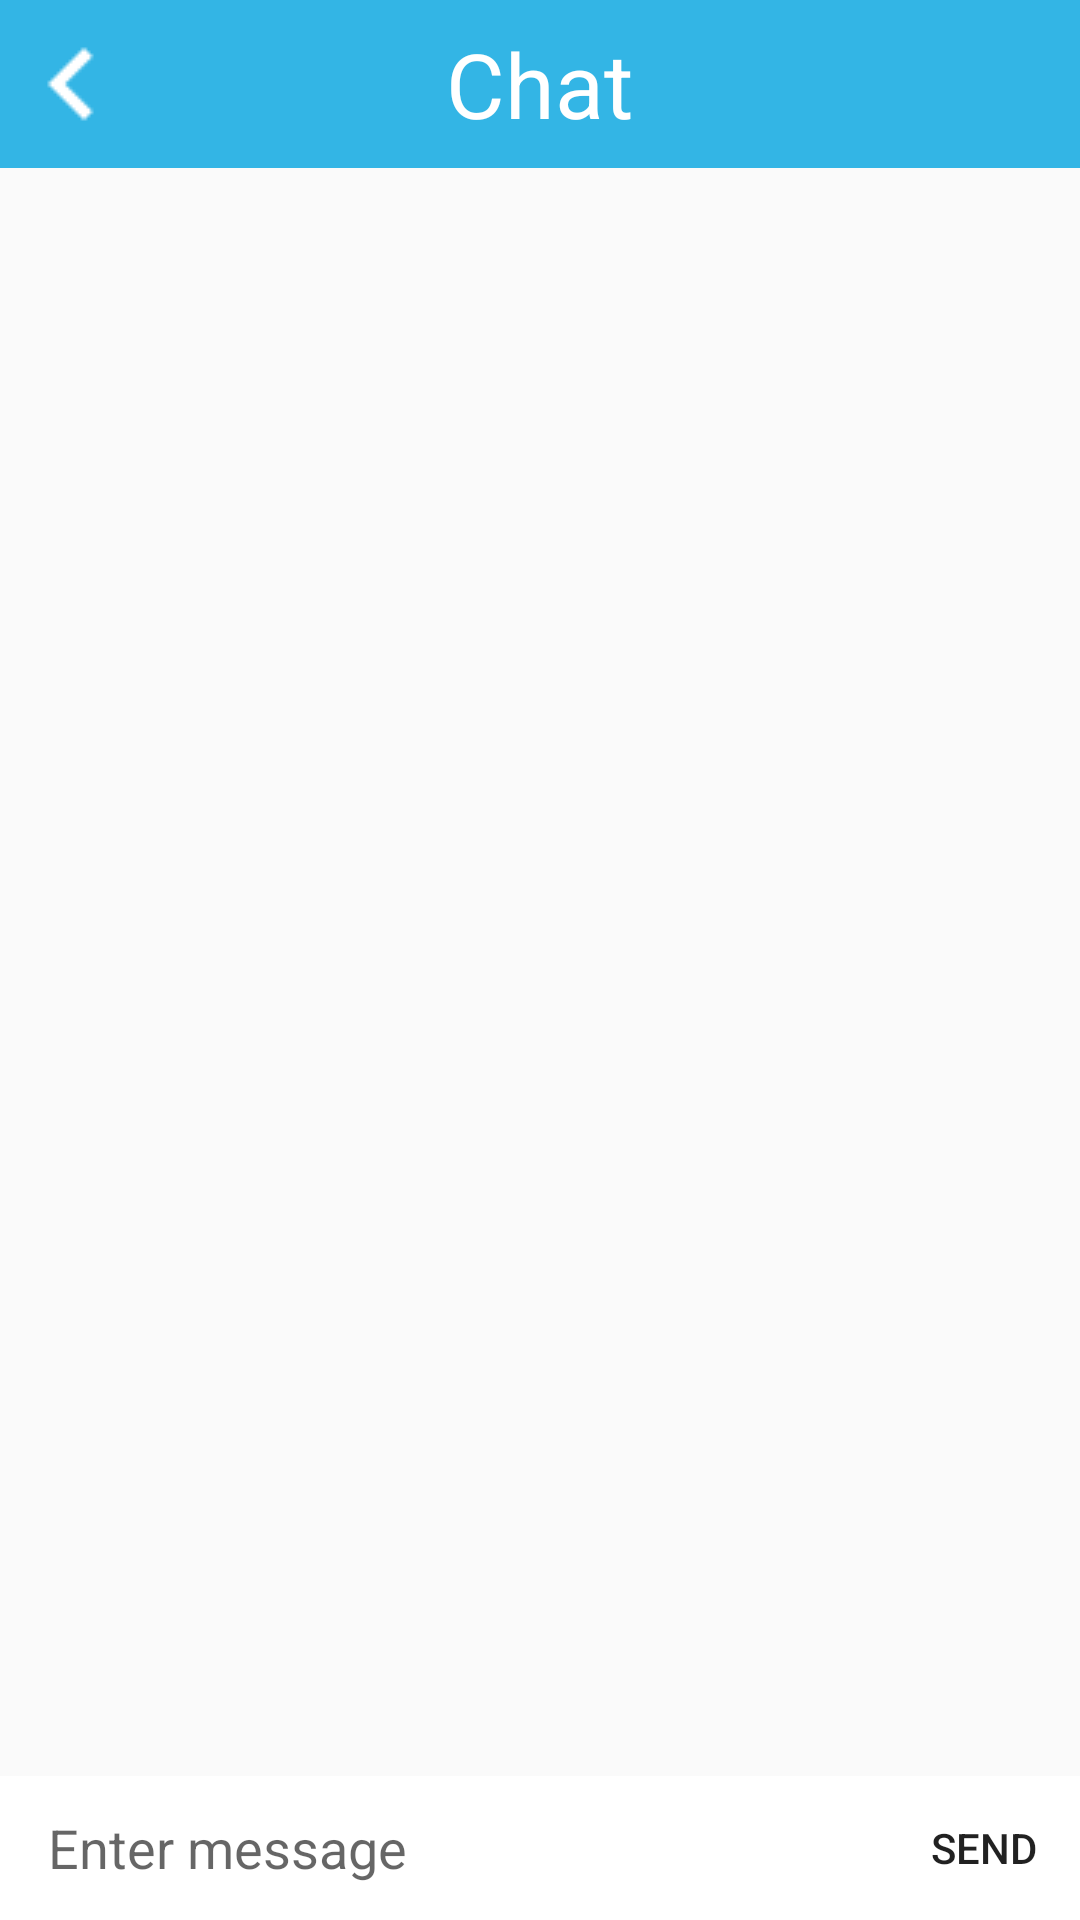

Icon bounding boxes for this 1080x1920 phone screenshot, format box(x1, y1, x2, y2):
Back to ClientForTrainer: box(47, 47, 94, 121)
